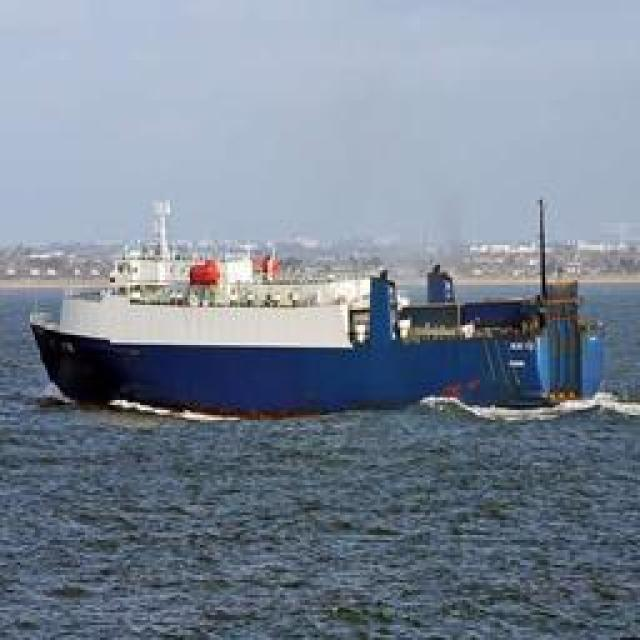ship2: (29, 193, 607, 421)
